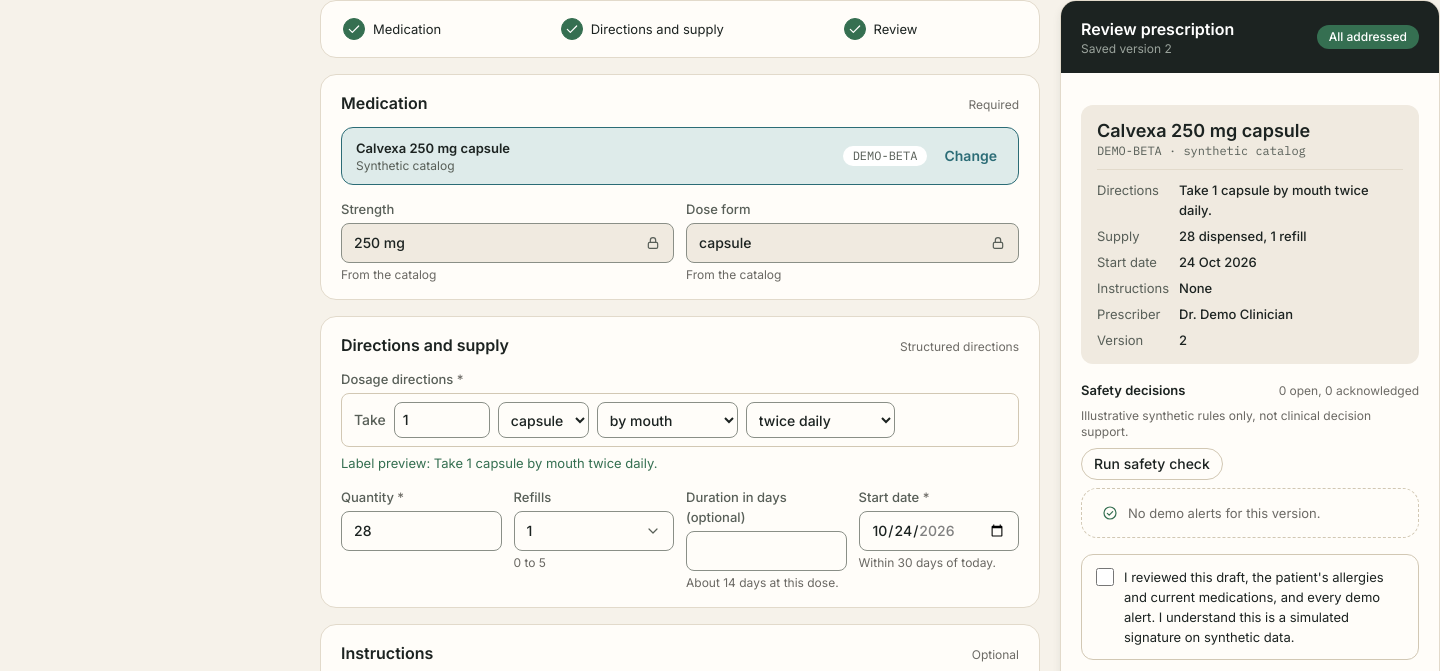
Test: DraftWorkspace › updates the label preview line as the directions change
Replace the text in the number field named "Dose amount" with "2" at (442,420), box [394,402,490,438]
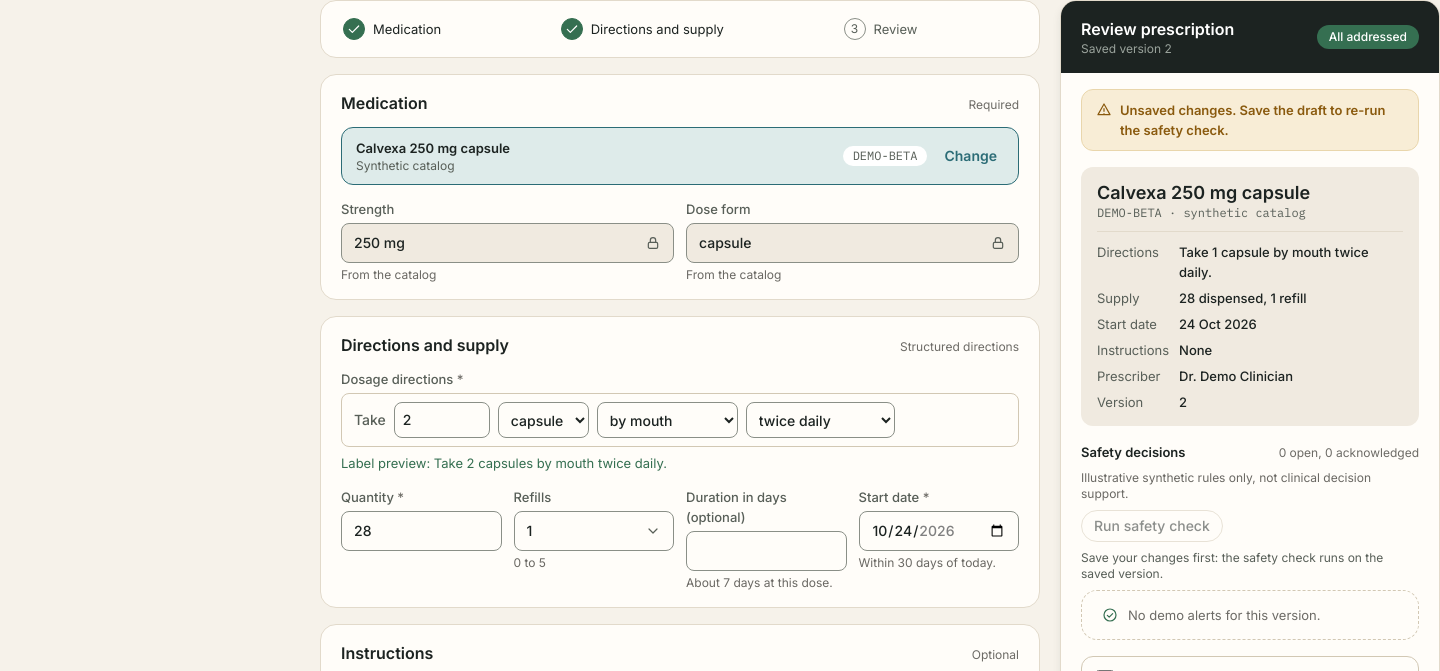
Select "at bedtime" in the 3rd dropdown named "Frequency" at (820,420), box [746,402,895,438]
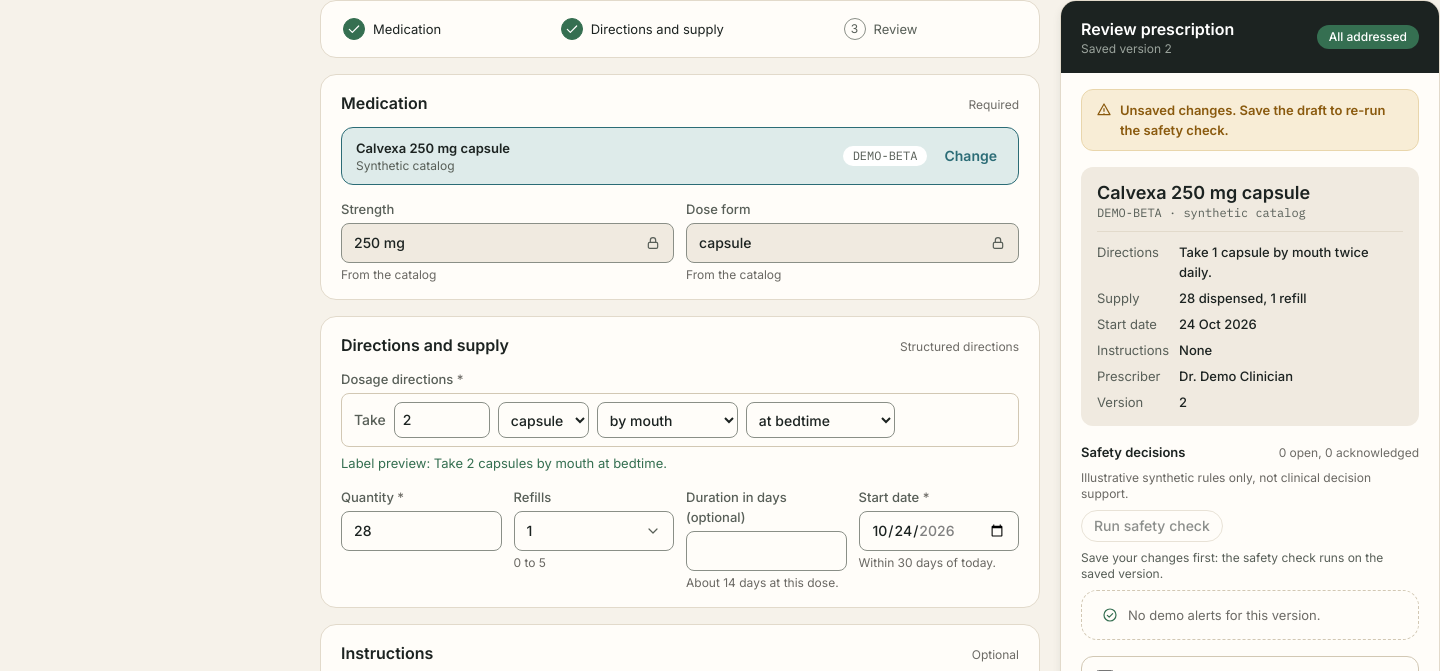
Now the element with id "rx-label-preview" reads "Label preview: Take 2 capsules by mouth at bedtime.", box [341,455,667,471]
